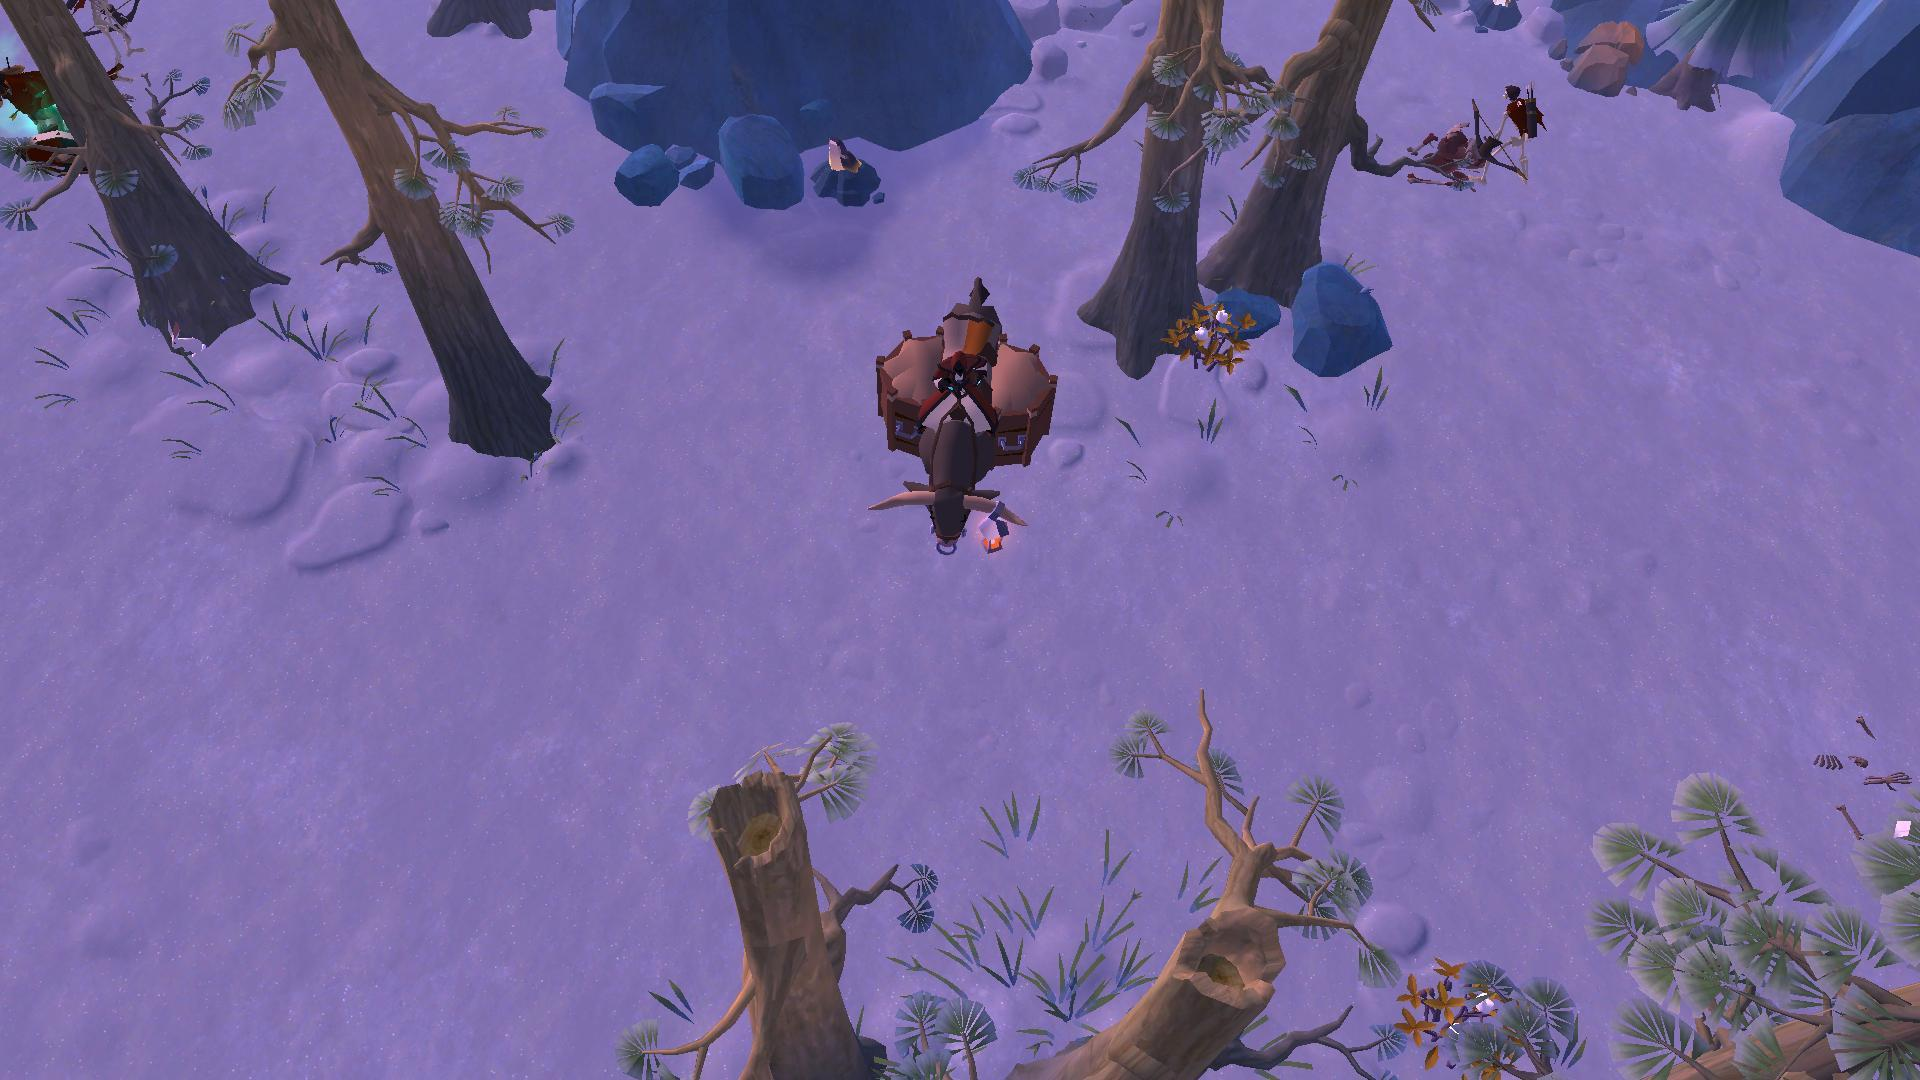enemy_factionUndead: (0, 57, 105, 170), (1470, 79, 1547, 187), (65, 0, 141, 40)
